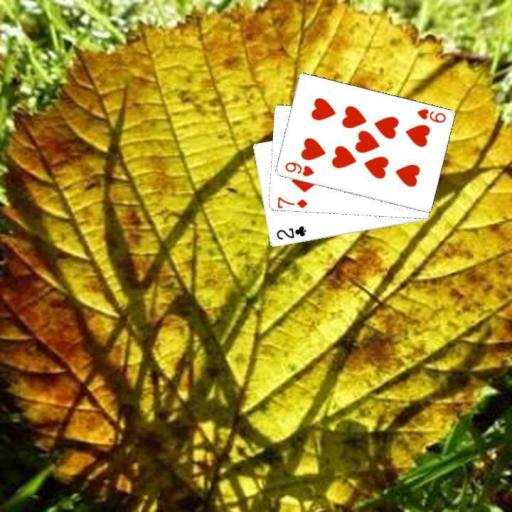2C: (273, 223, 307, 242)
7D: (274, 194, 309, 209)
9H: (282, 159, 315, 179), (413, 106, 447, 125)
